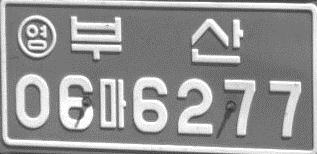0: (14, 71, 49, 130)
2: (175, 76, 214, 135)
6: (58, 73, 94, 132), (133, 75, 168, 134)
7: (268, 79, 302, 139), (223, 78, 256, 137)
마: (98, 77, 128, 130)
부산_D: (69, 13, 245, 65)
영: (16, 13, 58, 59)
